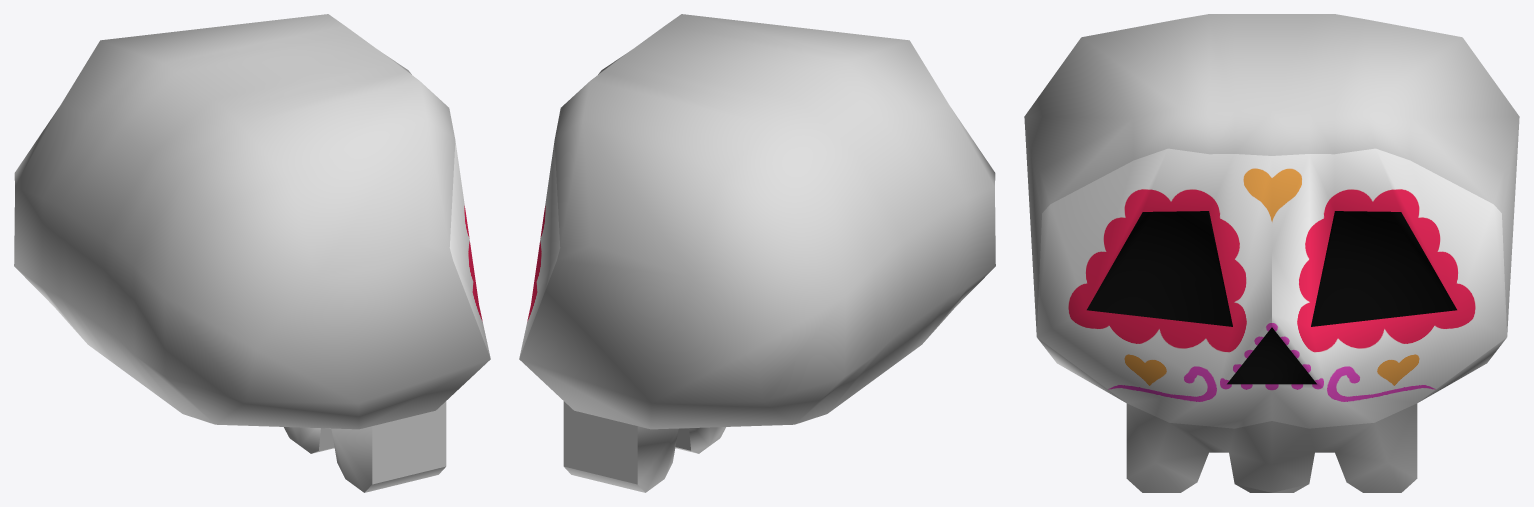
The model's file is Eskuli.fbx.
3 views of the same model, side by side, from view 1: azimuth 30°, elevation 25°; view 2: azimuth 150°, elevation 25°; view 3: azimuth 270°, elevation 25° (orthographic).
Visible parts, largest first — view 1: Cube; view 2: Cube; view 3: Cube.
Part boxes in pixels (x1,y1,x2,y2): Cube: [14, 14, 490, 492]; Cube: [519, 14, 995, 492]; Cube: [1024, 14, 1519, 492].
Size of the model in its own units: 170 by 174 by 200.
